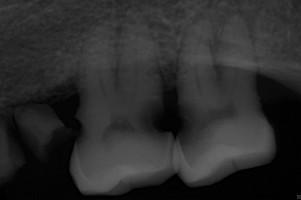Dental Caries: (190, 0, 266, 56)
